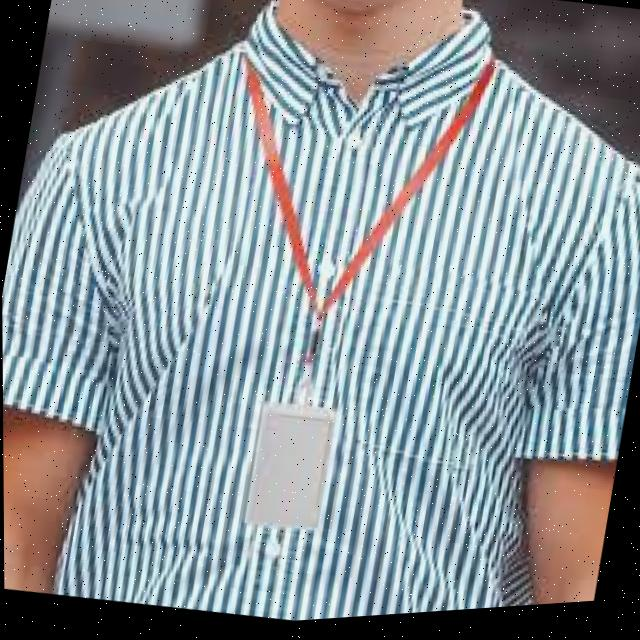id_card: (157, 54, 468, 571)
